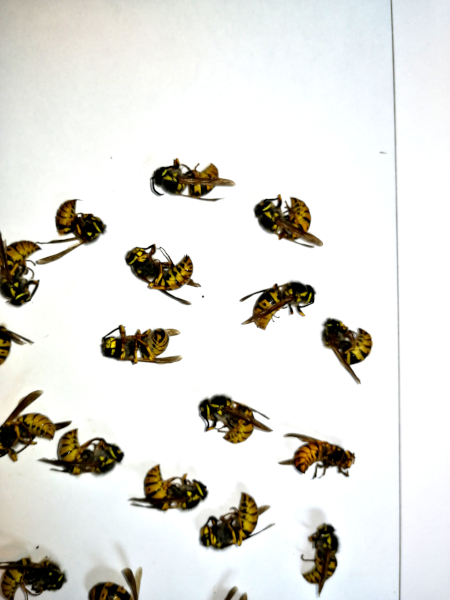chax: (117, 235, 205, 317), (235, 272, 329, 343), (263, 427, 369, 489), (90, 322, 196, 379), (142, 152, 235, 214), (196, 386, 276, 457), (132, 455, 213, 524), (316, 308, 388, 384), (244, 185, 323, 254), (195, 494, 276, 560), (1, 391, 66, 472), (41, 193, 107, 268), (293, 515, 348, 600), (47, 429, 131, 484)
